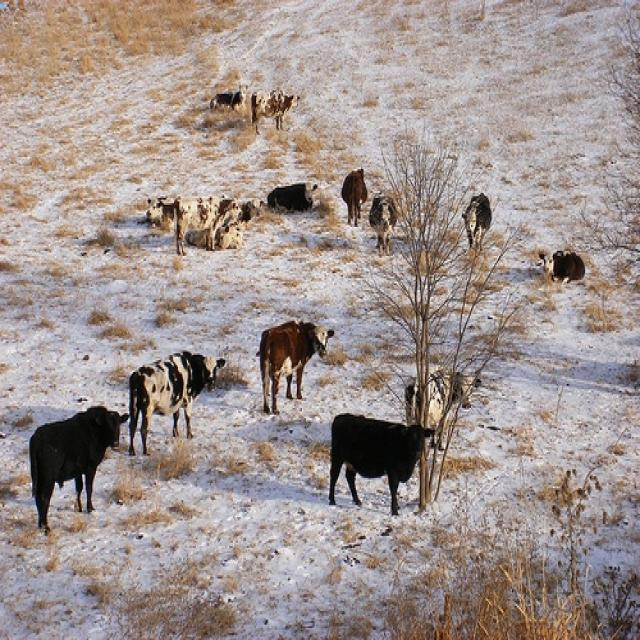cow: (28, 405, 128, 534), (328, 413, 434, 514), (127, 352, 224, 454), (259, 319, 334, 411), (404, 372, 475, 445), (174, 196, 237, 253), (250, 89, 300, 133), (462, 191, 493, 248), (340, 169, 368, 227), (268, 181, 320, 212), (536, 251, 585, 283), (371, 188, 394, 256), (210, 82, 248, 113)
